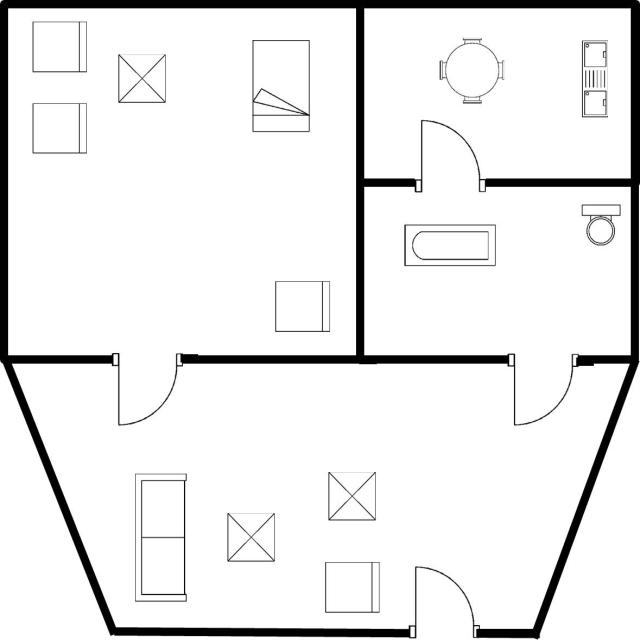bed: (248, 34, 314, 137)
coffee_table: (323, 464, 379, 524), (112, 51, 170, 107), (222, 507, 278, 565)
large_sink: (578, 200, 624, 250)
large_sofa: (128, 467, 190, 606)
round_table: (435, 32, 510, 108)
small_sofa: (272, 276, 334, 338), (321, 557, 384, 618), (27, 18, 90, 77), (27, 99, 90, 157)
tub: (400, 220, 500, 273)
twin_sink: (576, 36, 612, 122)
